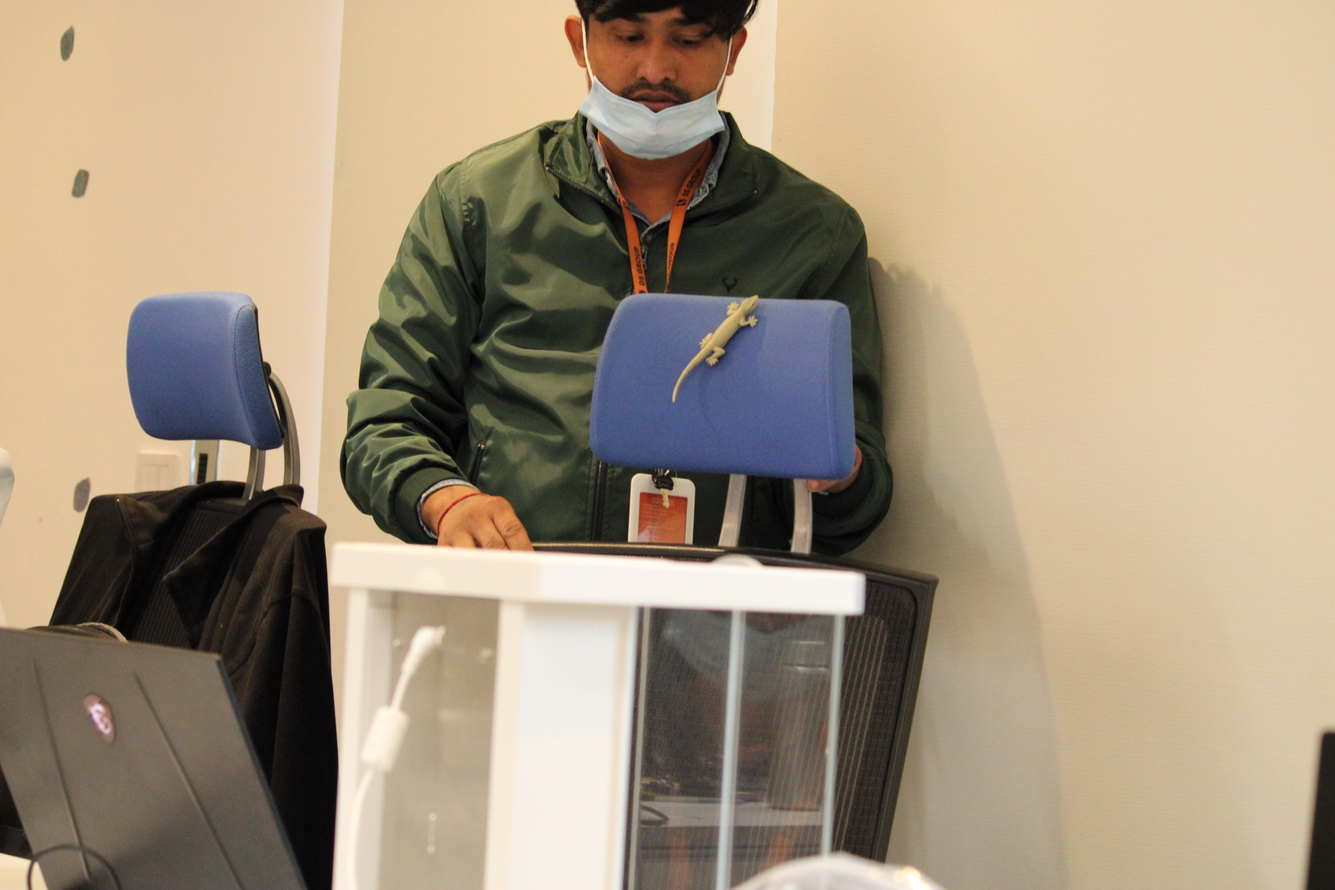lizard: (666, 294, 772, 410)
